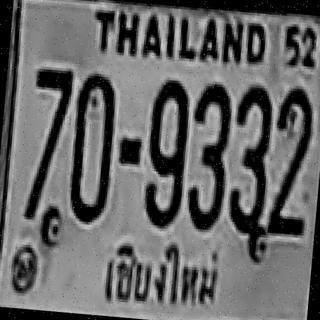N00: (66, 70, 119, 220)
N02: (269, 84, 315, 208)
N03: (225, 83, 274, 234), (183, 83, 231, 229)
N07: (28, 66, 73, 153)
N09: (141, 78, 189, 227), (141, 94, 188, 227)
P11: (92, 232, 229, 314)
